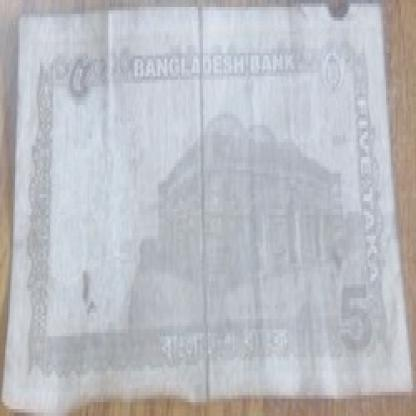Five Taka: (331, 278, 376, 367), (58, 48, 98, 111)
